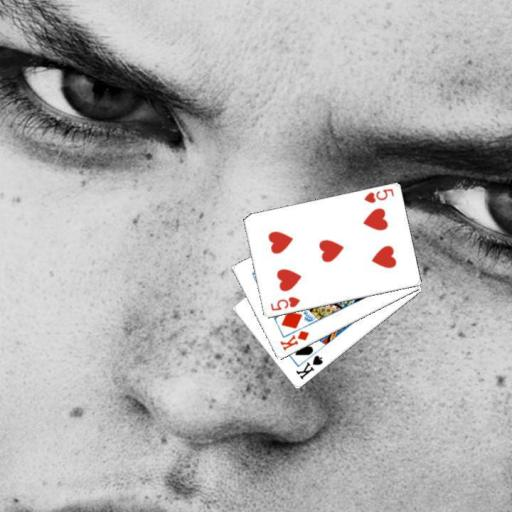5H: (267, 294, 302, 313), (361, 186, 396, 205)
KD: (277, 328, 311, 353)
KS: (293, 352, 325, 381)
